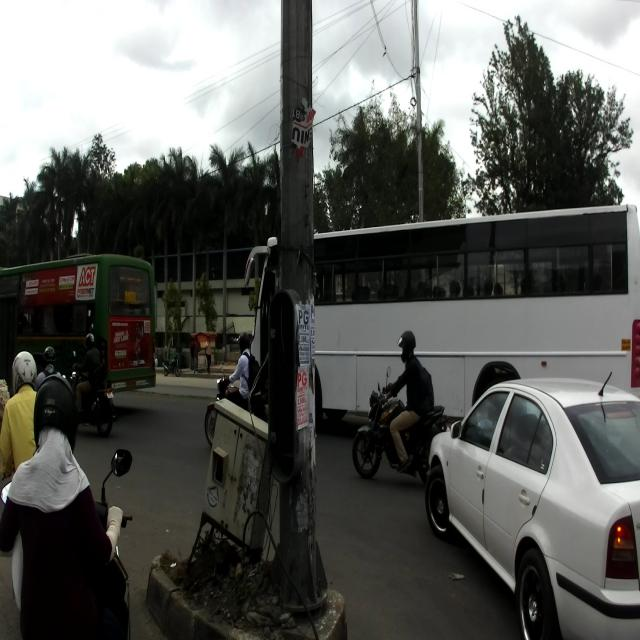Car_Skoda: (425, 369, 639, 639)
bus: (246, 203, 638, 439), (1, 250, 158, 400)
motorcycle_RoyalEnfield: (204, 359, 268, 455), (71, 350, 118, 438)
motorcycle_Yamaha: (350, 364, 447, 486)
